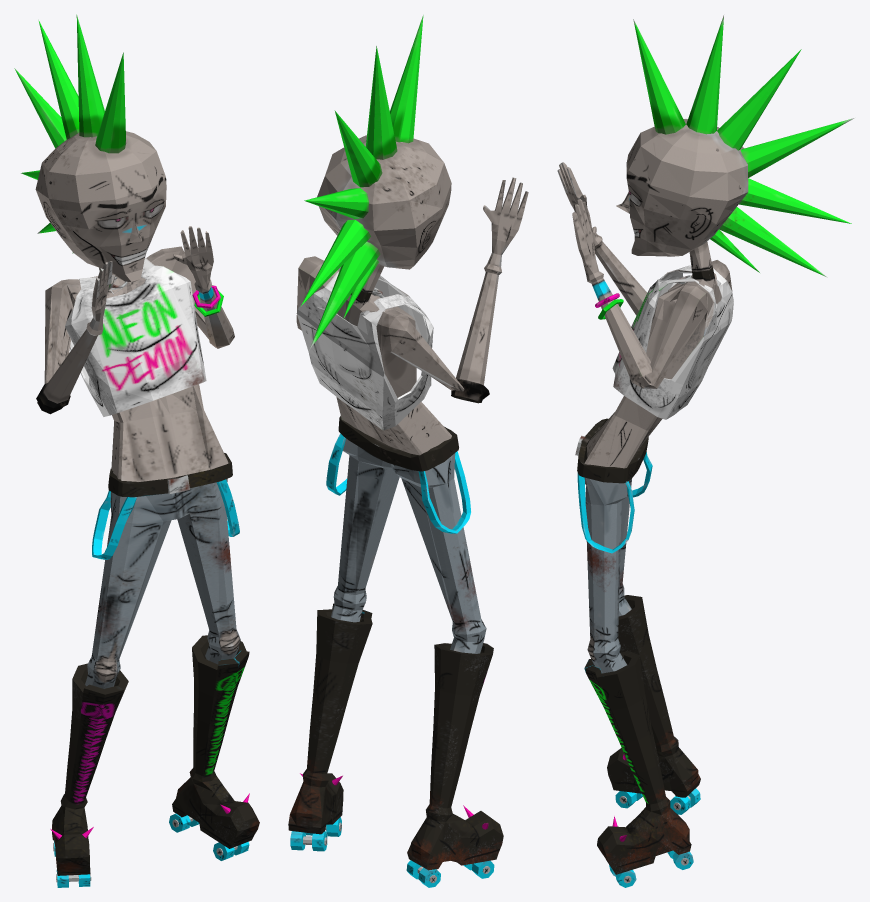
File: punkAnimation_000006.obj
The picture shows the model from 3 angles, left to right: view 1: azimuth 30°, elevation 25°; view 2: azimuth 150°, elevation 25°; view 3: azimuth 270°, elevation 25°; orthographic projection. The views are drawn at different scales.
Visible parts, largest first — view 1: Cube.004_Cube.003; view 2: Cube.004_Cube.003; view 3: Cube.004_Cube.003.
Part boxes in pixels (x1,y1,x2,y2): Cube.004_Cube.003: (14,14,259,887); Cube.004_Cube.003: (288,15,528,887); Cube.004_Cube.003: (557,15,854,887).
Size of the model in its own units: 1.85 by 7.44 by 2.46.
